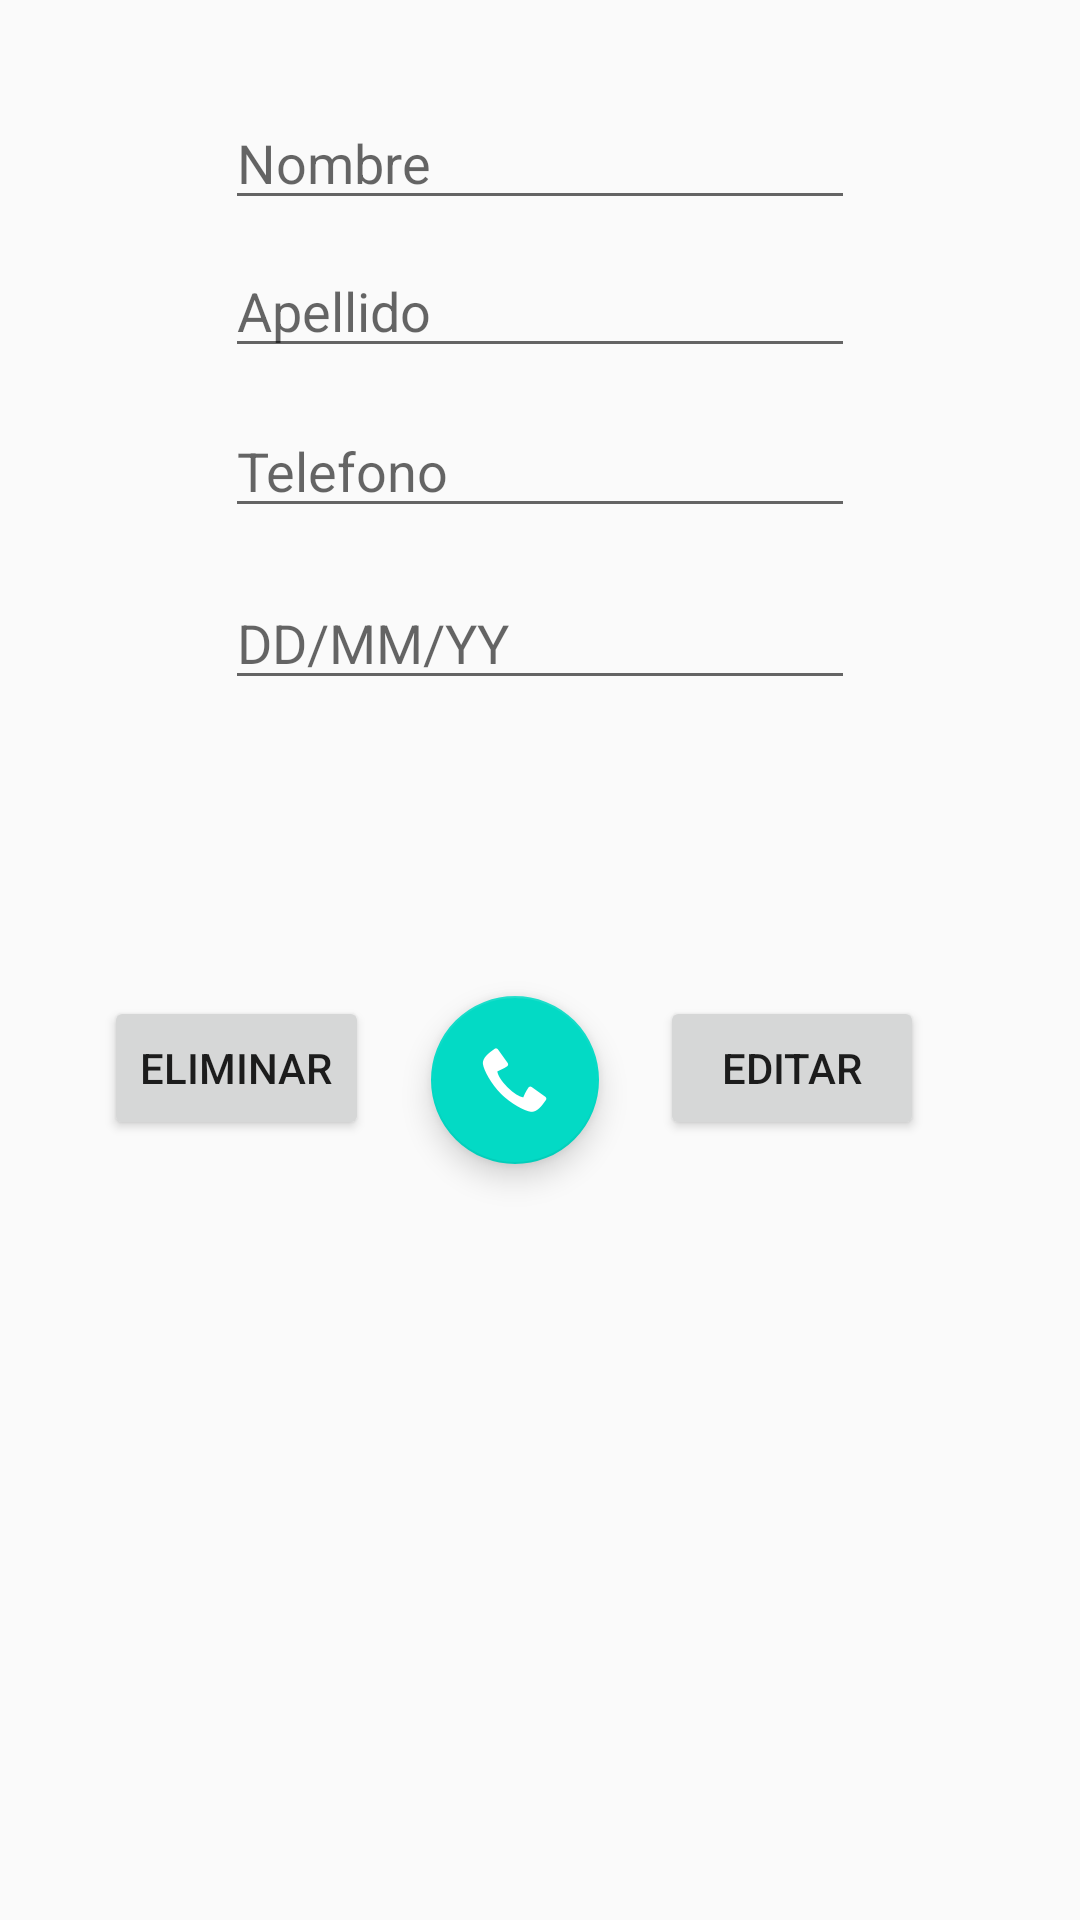

Locate icon controls on the screen. Image size 1080*1920, boxes as (x1, y1, x2, y2).
phone call: (431, 996, 599, 1164)
